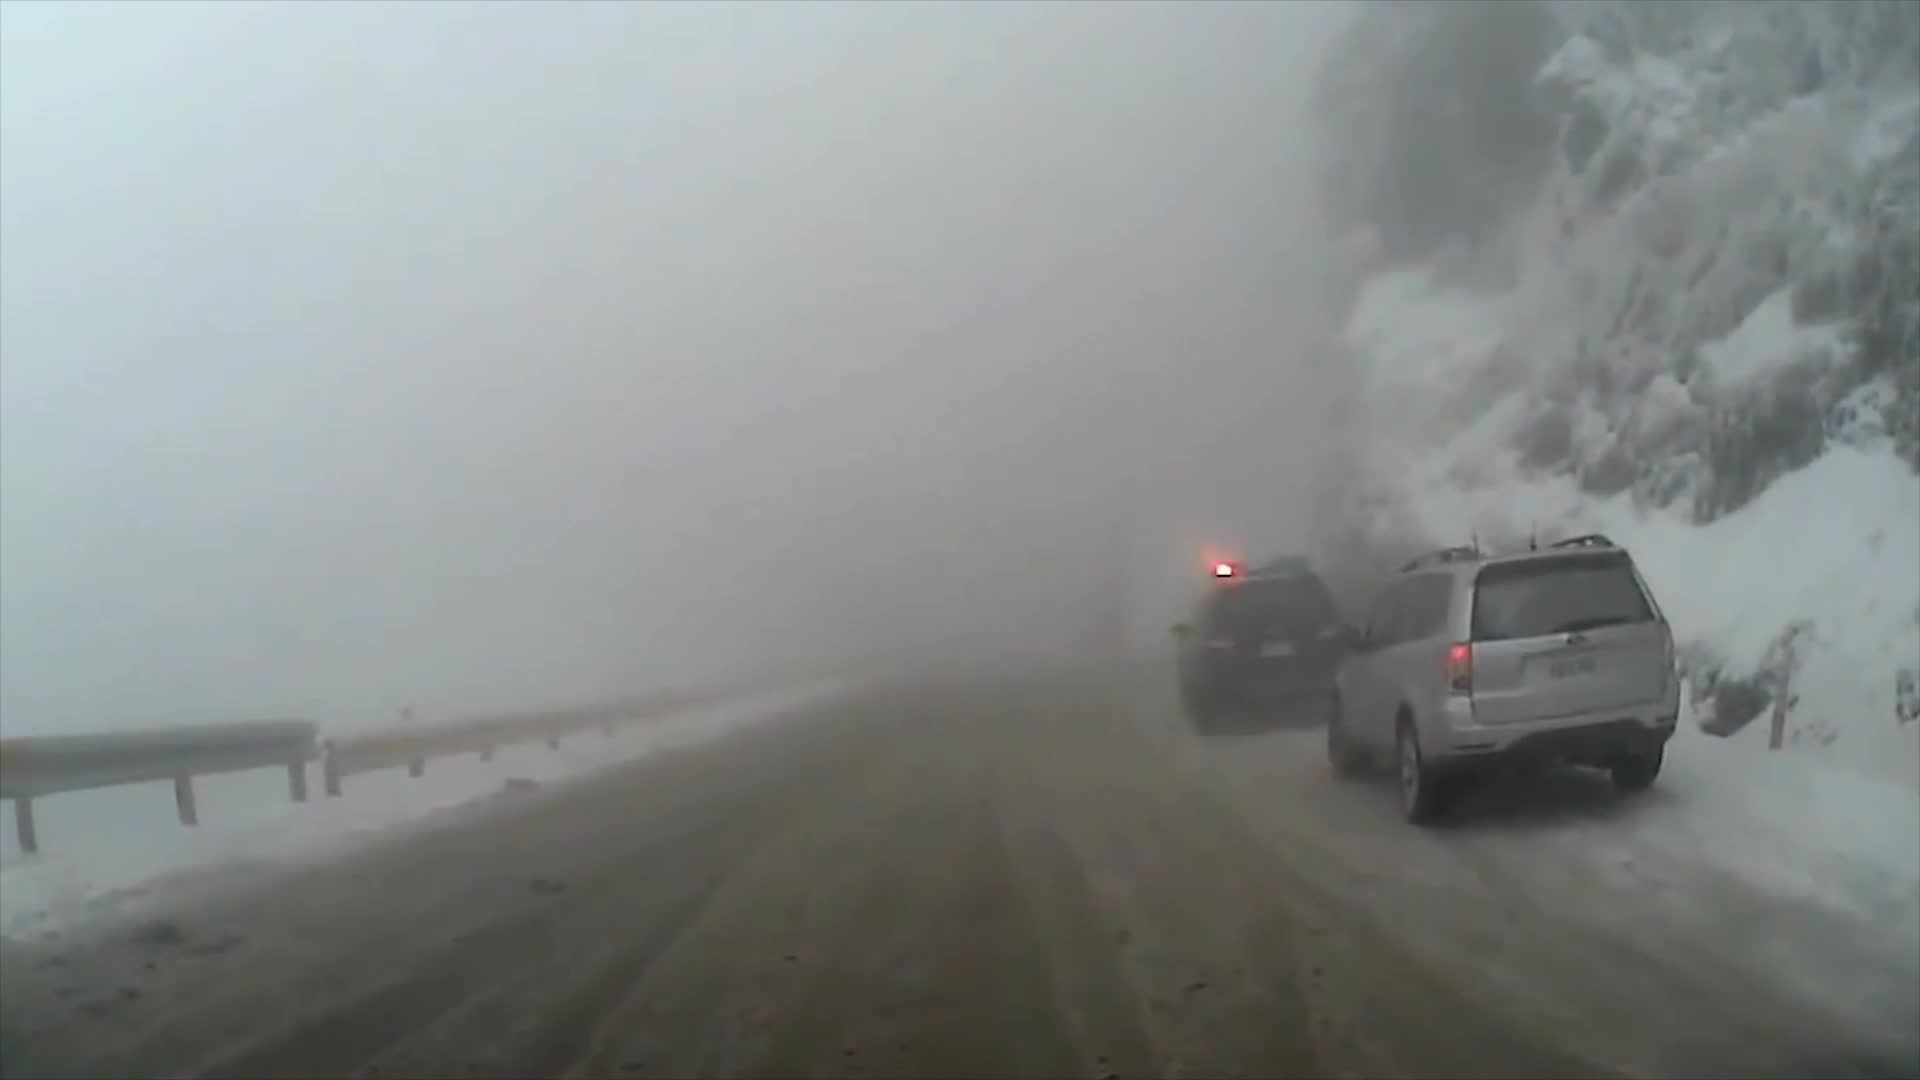vehicle: (1325, 530, 1683, 825), (1168, 547, 1354, 731)
